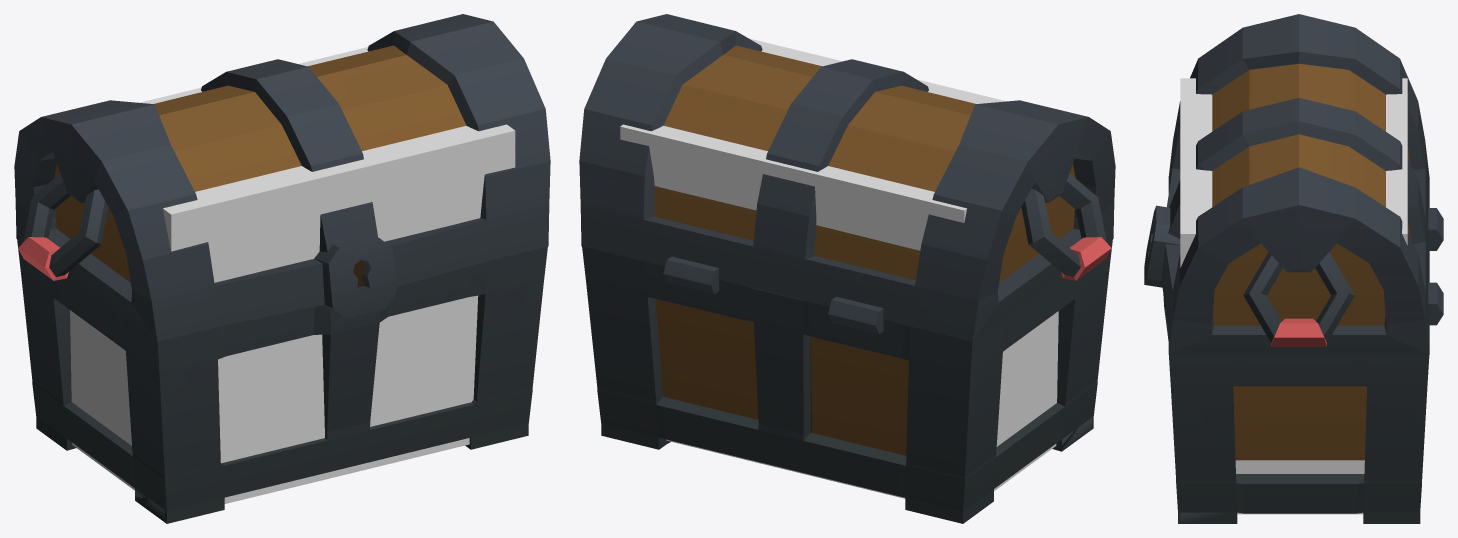
File: wooden_chest.glb
3 views of the same model, side by side, from view 1: azimuth 30°, elevation 25°; view 2: azimuth 150°, elevation 25°; view 3: azimuth 270°, elevation 25° (orthographic). The views are drawn at different scales.
Visible parts, largest first — view 1: Chest_01, Cube.009; view 2: Chest_01, Cube.009; view 3: Chest_01, Cube.009.
Part boxes in pixels (bbox=[...]): Chest_01: bbox=[14, 14, 550, 523]; Cube.009: bbox=[70, 47, 515, 503]; Chest_01: bbox=[579, 14, 1115, 523]; Cube.009: bbox=[620, 38, 1058, 498]; Chest_01: bbox=[1144, 14, 1443, 523]; Cube.009: bbox=[1180, 78, 1407, 514].
Bounding box in the file's own units: 1.12 × 0.7633 × 0.6224.
1 material, 1 textured.
